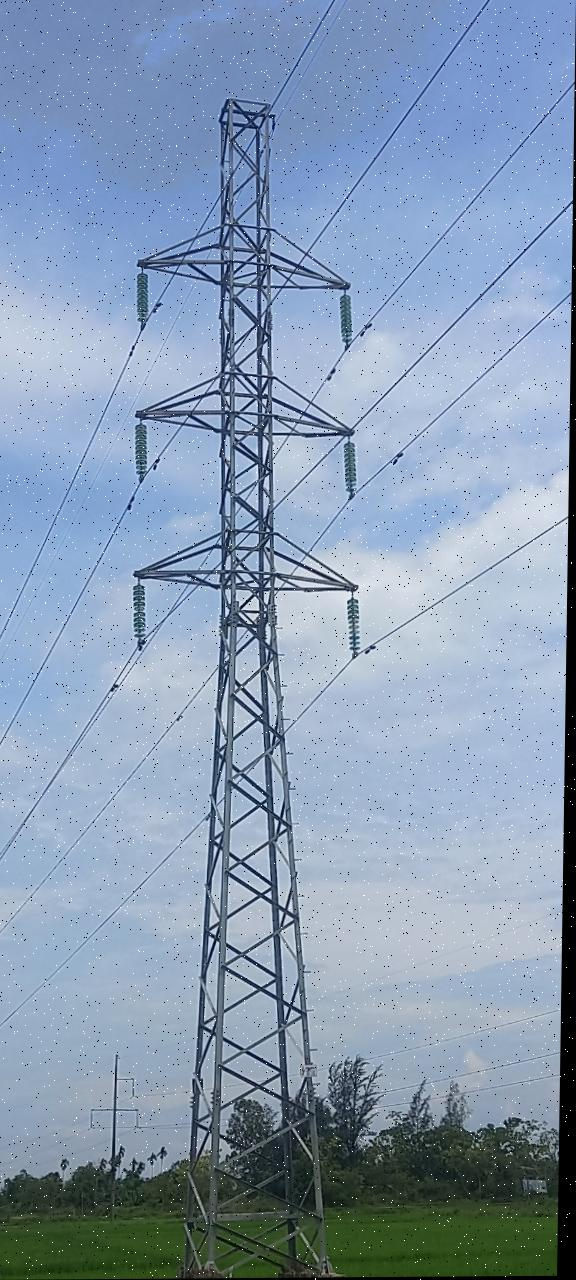tower: (115, 96, 383, 1277)
